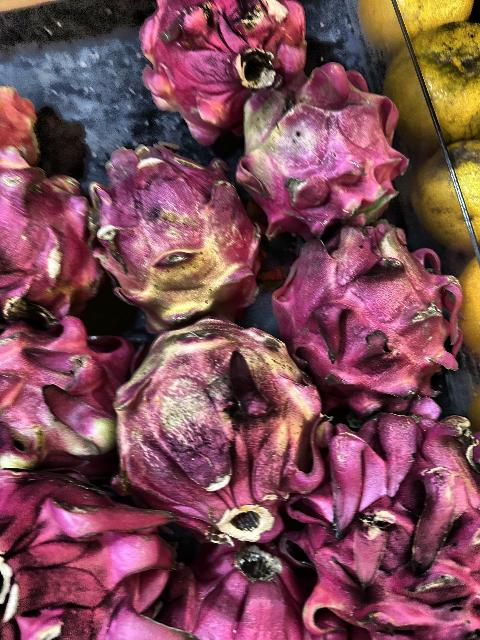buah-naga-belum-matang: (108, 314, 342, 520), (100, 138, 260, 320), (242, 71, 398, 223), (0, 314, 120, 464)
buah-naga-matang: (292, 400, 480, 640), (0, 464, 188, 640), (277, 212, 457, 390), (131, 0, 297, 114), (0, 158, 102, 310), (179, 534, 309, 640)
